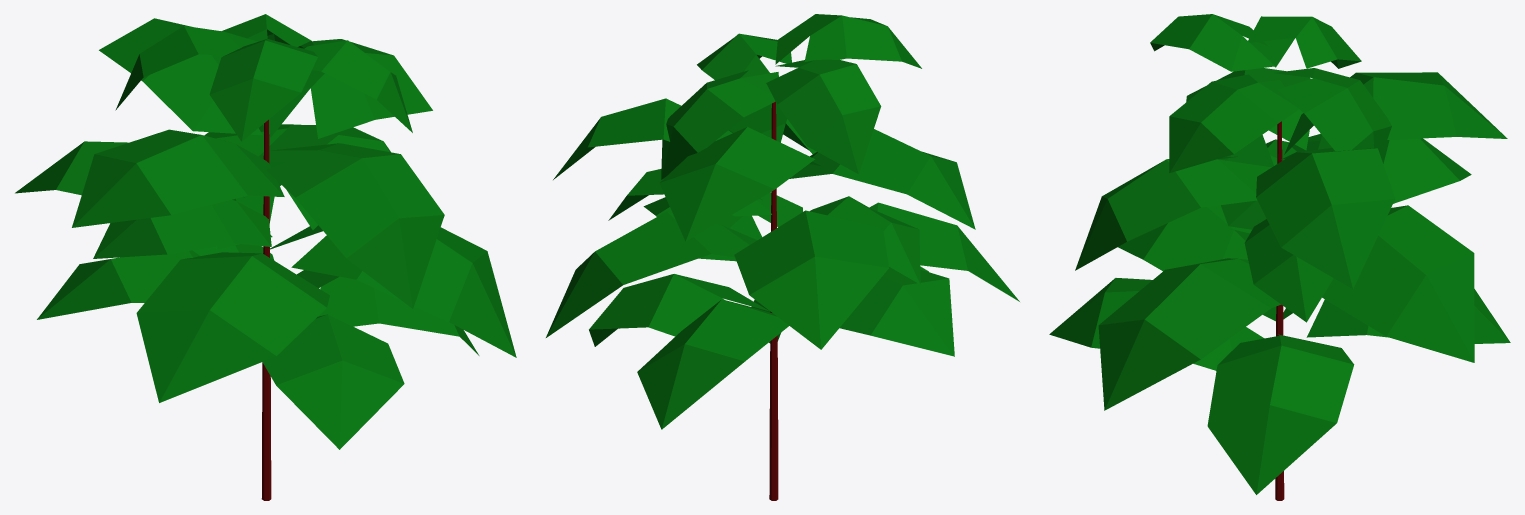
The model's file is Vegetation-05.fbx.
The picture shows the model from 3 angles, left to right: view 1: azimuth 30°, elevation 25°; view 2: azimuth 150°, elevation 25°; view 3: azimuth 270°, elevation 25°; orthographic projection. The views are drawn at different scales.
Visible parts, largest first — view 1: Vegetation-05; view 2: Vegetation-05; view 3: Vegetation-05.
Boxes of the visible parts, box(x1,y1,x2,y2) form: Vegetation-05: box(15, 14, 516, 500); Vegetation-05: box(546, 14, 1019, 500); Vegetation-05: box(1049, 14, 1510, 500).
Size of the model in its own units: 1.79 by 2.05 by 1.84.
